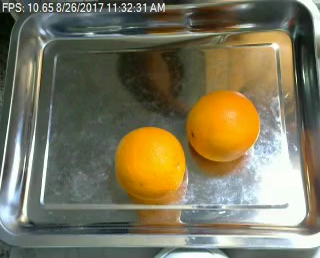Orange: (184, 88, 259, 162), (115, 126, 185, 199)
